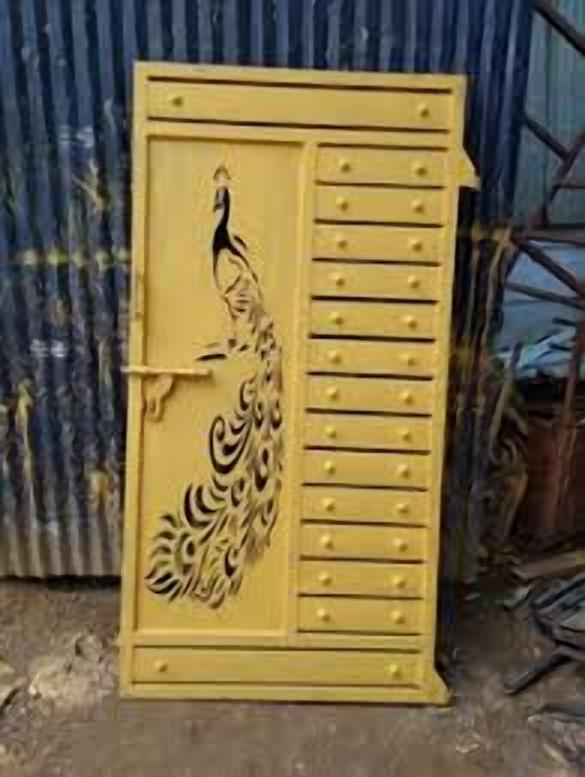Gate: (121, 61, 478, 710)
